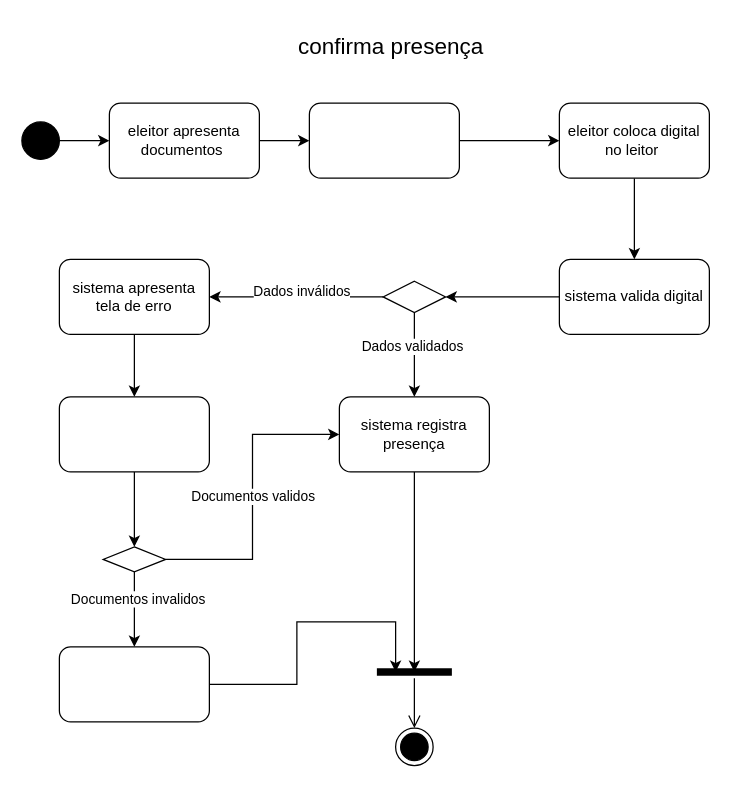
The diagram is 731 pixels wide and 788 high, and some of its shapes have lost their labels. Here are the shapes that lost their labels. From the top down, the box of each, then its label:
(308, 102, 459, 178): mesário registra documentos no sistema
(58, 396, 209, 472): mesário verifica documentos do eleitor
(58, 646, 209, 722): eleitor não apto para votar
